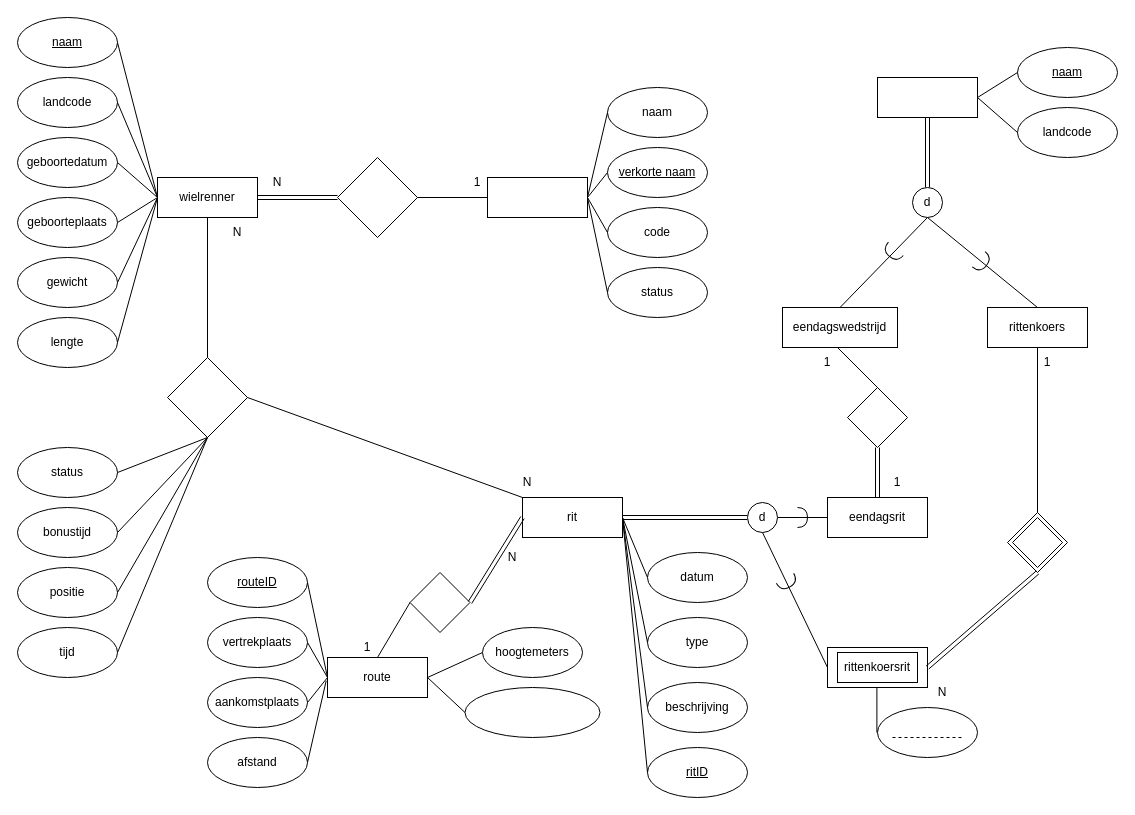
Image size: 1135x815. Some labels were removed from this diagram. The shapes that lost their labels are listed below. From the top down, each one's centre as x and y in pixels, then its label:
[927,97]: wielerwedstrijd
[377,197]: lid van
[537,197]: wielerteam
[207,397]: neemt deel aan
[439,602]: volgt
[532,712]: moeilijkheidsniveau
[927,732]: volgnummer
